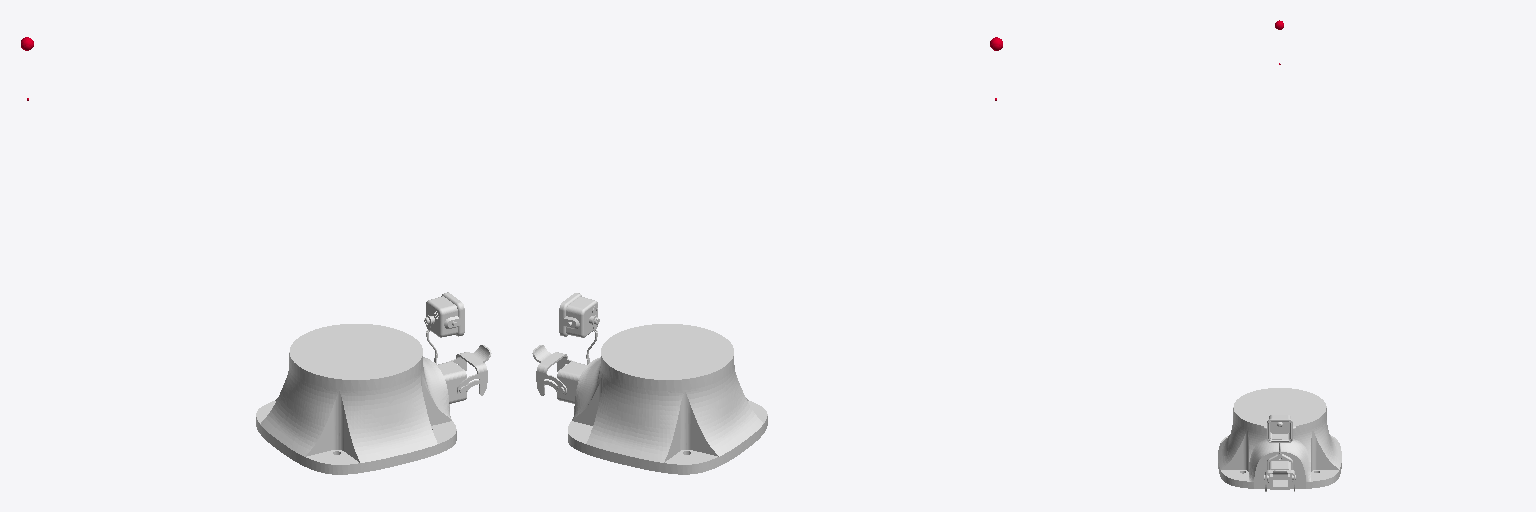
URDF robot description (mg400):
<?xml version="1.0" ?>
<robot name="mg400">
	<link name="world">
		<inertial>
			<origin rpy="0.00000 -0.00000 0.00000" xyz="0.00000 0.00000 0.00000"/>
			<mass value="0.00000"/>
			<inertia ixx="0.00000" ixy="0" ixz="0" iyy="0.00000" iyz="0" izz="0.00000"/>
		</inertial>
	</link>
	<link name="base_link">
		<inertial>
			<origin rpy="0.00000 -0.00000 0.00000" xyz="0.00060 -0.00000 0.05609"/>
			<mass value="3.62165"/>
			<inertia ixx="0.01587" ixy="0" ixz="0" iyy="0.01587" iyz="0" izz="0.02319"/>
		</inertial>
		<visual>
			<origin rpy="0.00000 -0.00000 0.00000" xyz="0.00000 0.00000 0.00000"/>
			<geometry>
				<mesh filename="../robot_arm_assets/mg400/meshes/base_link.STL" scale="1.00000 1.00000 1.00000"/>
			</geometry>
			<material name="mat_0">
				<color rgba="0.90000 0.90000 0.90000 1.00000" />
			</material>
		</visual>
		<collision>
			<origin rpy="0.00000 -0.00000 0.00000" xyz="0.00000 0.00000 0.00000"/>
			<geometry>
				<mesh filename="../robot_arm_assets/mg400/meshes/base_link.STL" scale="1.00000 1.00000 1.00000"/>
			</geometry>
		</collision>
	</link>
	<link name="link1">
		<inertial>
			<origin rpy="0.00000 -0.00000 0.00000" xyz="-0.00462 -0.00007 0.07099"/>
			<mass value="1.77056"/>
			<inertia ixx="0.00748" ixy="0" ixz="0" iyy="0.00775" iyz="0" izz="0.00787"/>
		</inertial>
		<visual>
			<origin rpy="0.00000 -0.00000 0.00000" xyz="0.00000 0.00000 0.00000"/>
			<geometry>
				<mesh filename="../robot_arm_assets/mg400/meshes/link1.STL" scale="1.00000 1.00000 1.00000"/>
			</geometry>
			<material name="mat_1">
				<color rgba="0.30000 0.30000 0.30000 1.00000" />
			</material>
		</visual>
		<collision>
			<origin rpy="0.00000 -0.00000 0.00000" xyz="0.00000 0.00000 0.00000"/>
			<geometry>
				<mesh filename="../robot_arm_assets/mg400/meshes/link1.STL" scale="1.00000 1.00000 1.00000"/>
			</geometry>
		</collision>
	</link>
	<link name="link2_1">
		<inertial>
			<origin rpy="0.00000 -0.00000 0.00000" xyz="-0.00322 0.03529 0.05961"/>
			<mass value="0.08661"/>
			<inertia ixx="0.00038" ixy="0" ixz="0" iyy="0.00035" iyz="0" izz="0.00006"/>
		</inertial>
		<visual>
			<origin rpy="0.00000 -0.00000 0.00000" xyz="0.00000 0.00000 0.00000"/>
			<geometry>
				<mesh filename="../robot_arm_assets/mg400/meshes/link2_1.STL" scale="1.00000 1.00000 1.00000"/>
			</geometry>
			<material name="mat_2">
				<color rgba="0.30000 0.30000 0.30000 1.00000" />
			</material>
		</visual>
		<collision>
			<origin rpy="0.00000 -0.00000 0.00000" xyz="0.00000 0.00000 0.00000"/>
			<geometry>
				<mesh filename="../robot_arm_assets/mg400/meshes/link2_1.STL" scale="1.00000 1.00000 1.00000"/>
			</geometry>
		</collision>
	</link>
	<link name="link3_1">
		<inertial>
			<origin rpy="0.00000 -0.00000 0.00000" xyz="0.08217 0.00011 -0.00334"/>
			<mass value="0.03752"/>
			<inertia ixx="0.00001" ixy="0" ixz="0" iyy="0.00018" iyz="0" izz="0.00018"/>
		</inertial>
		<visual>
			<origin rpy="0.00000 -0.00000 0.00000" xyz="0.00000 0.00000 0.00000"/>
			<geometry>
				<mesh filename="../robot_arm_assets/mg400/meshes/link3_1.STL" scale="1.00000 1.00000 1.00000"/>
			</geometry>
			<material name="mat_3">
				<color rgba="0.30000 0.30000 0.30000 1.00000" />
			</material>
		</visual>
		<collision>
			<origin rpy="0.00000 -0.00000 0.00000" xyz="0.00000 0.00000 0.00000"/>
			<geometry>
				<mesh filename="../robot_arm_assets/mg400/meshes/link3_1.STL" scale="1.00000 1.00000 1.00000"/>
			</geometry>
		</collision>
	</link>
	<link name="link4_1">
		<inertial>
			<origin rpy="0.00000 -0.00000 0.00000" xyz="0.03879 0.01708 -0.00246"/>
			<mass value="0.06290"/>
			<inertia ixx="0.00006" ixy="0" ixz="0" iyy="0.00010" iyz="0" izz="0.00007"/>
		</inertial>
		<visual>
			<origin rpy="0.00000 -0.00000 0.00000" xyz="0.00000 0.00000 0.00000"/>
			<geometry>
				<mesh filename="../robot_arm_assets/mg400/meshes/link4_1.STL" scale="1.00000 1.00000 1.00000"/>
			</geometry>
			<material name="mat_4">
				<color rgba="0.90000 0.90000 0.90000 1.00000" />
			</material>
		</visual>
		<collision>
			<origin rpy="0.00000 -0.00000 0.00000" xyz="0.00000 0.00000 0.00000"/>
			<geometry>
				<mesh filename="../robot_arm_assets/mg400/meshes/link4_1.STL" scale="1.00000 1.00000 1.00000"/>
			</geometry>
		</collision>
	</link>
	<link name="link5">
		<inertial>
			<origin rpy="0.00000 -0.00000 0.00000" xyz="0.00000 0.00000 -0.03497"/>
			<mass value="0.09653"/>
			<inertia ixx="0.00008" ixy="0" ixz="0" iyy="0.00008" iyz="0" izz="0.00003"/>
		</inertial>
		<visual>
			<origin rpy="0.00000 -0.00000 0.00000" xyz="0.00000 0.00000 0.00000"/>
			<geometry>
				<mesh filename="../robot_arm_assets/mg400/meshes/link5.STL" scale="1.00000 1.00000 1.00000"/>
			</geometry>
			<material name="mat_5">
				<color rgba="0.90000 0.90000 0.90000 1.00000" />
			</material>
		</visual>
		<collision>
			<origin rpy="0.00000 -0.00000 0.00000" xyz="0.00000 0.00000 0.00000"/>
			<geometry>
				<mesh filename="../robot_arm_assets/mg400/meshes/link5.STL" scale="1.00000 1.00000 1.00000"/>
			</geometry>
		</collision>
	</link>
	<link name="ee_link">
		<inertial>
			<origin rpy="-3.14000 -0.00000 1.57000" xyz="0.00000 0.00000 0.00000"/>
			<mass value="0.00000"/>
			<inertia ixx="0.00000" ixy="0" ixz="0" iyy="0.00000" iyz="0" izz="0.00000"/>
		</inertial>
		<visual>
			<origin rpy="0.00000 -0.00000 0.00000" xyz="0.00000 0.00000 0.00000"/>
			<geometry>
				<sphere radius="0.00500"/>
			</geometry>
			<material name="mat_6">
				<color rgba="0.90000 0.00000 0.20000 1.00000" />
			</material>
		</visual>
		<collision>
			<origin rpy="0.00000 -0.00000 0.00000" xyz="0.00000 0.00000 0.00000"/>
			<geometry>
				<sphere radius="0.00100"/>
			</geometry>
		</collision>
	</link>
	<link name="link2_2">
		<inertial>
			<origin rpy="0.00000 -0.00000 0.00000" xyz="-0.02011 0.03050 0.07363"/>
			<mass value="0.06625"/>
			<inertia ixx="0.00025" ixy="0" ixz="0" iyy="0.00024" iyz="0" izz="0.00004"/>
		</inertial>
		<visual>
			<origin rpy="0.00000 -0.00000 0.00000" xyz="0.00000 0.00000 0.00000"/>
			<geometry>
				<mesh filename="../robot_arm_assets/mg400/meshes/link2_2.STL" scale="1.00000 1.00000 1.00000"/>
			</geometry>
			<material name="mat_7">
				<color rgba="0.90000 0.90000 0.90000 1.00000" />
			</material>
		</visual>
		<collision>
			<origin rpy="0.00000 -0.00000 0.00000" xyz="0.00000 0.00000 0.00000"/>
			<geometry>
				<mesh filename="../robot_arm_assets/mg400/meshes/link2_2.STL" scale="1.00000 1.00000 1.00000"/>
			</geometry>
		</collision>
	</link>
	<link name="link3_2">
		<inertial>
			<origin rpy="0.00000 -0.00000 0.00000" xyz="0.03386 0.02402 0.00452"/>
			<mass value="0.03667"/>
			<inertia ixx="0.00002" ixy="0" ixz="0" iyy="0.00004" iyz="0" izz="0.00004"/>
		</inertial>
		<visual>
			<origin rpy="0.00000 -0.00000 0.00000" xyz="0.00000 0.00000 0.00000"/>
			<geometry>
				<mesh filename="../robot_arm_assets/mg400/meshes/link3_2.STL" scale="1.00000 1.00000 1.00000"/>
			</geometry>
			<material name="mat_8">
				<color rgba="0.30000 0.30000 0.30000 1.00000" />
			</material>
		</visual>
		<collision>
			<origin rpy="0.00000 -0.00000 0.00000" xyz="0.00000 0.00000 0.00000"/>
			<geometry>
				<mesh filename="../robot_arm_assets/mg400/meshes/link3_2.STL" scale="1.00000 1.00000 1.00000"/>
			</geometry>
		</collision>
	</link>
	<link name="link4_2">
		<inertial>
			<origin rpy="0.00000 -0.00000 0.00000" xyz="0.08764 0.02350 0.00831"/>
			<mass value="0.04536"/>
			<inertia ixx="0.00002" ixy="0" ixz="0" iyy="0.00016" iyz="0" izz="0.00016"/>
		</inertial>
		<visual>
			<origin rpy="0.00000 -0.00000 0.00000" xyz="0.00000 0.00000 0.00000"/>
			<geometry>
				<mesh filename="../robot_arm_assets/mg400/meshes/link4_2.STL" scale="1.00000 1.00000 1.00000"/>
			</geometry>
			<material name="mat_9">
				<color rgba="0.90000 0.90000 0.90000 1.00000" />
			</material>
		</visual>
		<collision>
			<origin rpy="0.00000 -0.00000 0.00000" xyz="0.00000 0.00000 0.00000"/>
			<geometry>
				<mesh filename="../robot_arm_assets/mg400/meshes/link4_2.STL" scale="1.00000 1.00000 1.00000"/>
			</geometry>
		</collision>
	</link>
	<link name="digitac_body_link">
		<inertial>
			<origin rpy="0.00000 -0.00000 0.00000" xyz="0.00445 -0.01376 -0.00000"/>
			<mass value="0.00792"/>
			<inertia ixx="0.00000" ixy="0" ixz="0" iyy="0.00000" iyz="0" izz="0.00000"/>
		</inertial>
		<visual>
			<origin rpy="0.00000 -0.00000 0.00000" xyz="0.00000 0.00000 0.03500"/>
			<geometry>
				<mesh filename="../sensor_assets/standard_digitac/body/digitac_body.stl" scale="1.00000 1.00000 1.00000"/>
			</geometry>
			<material name="mat_10">
				<color rgba="0.80000 0.80000 0.80000 1.00000" />
			</material>
		</visual>
		<collision>
			<origin rpy="0.00000 -0.00000 0.00000" xyz="0.00000 0.00000 0.03500"/>
			<geometry>
				<mesh filename="../sensor_assets/standard_digitac/body/digitac_body.stl" scale="1.00000 1.00000 1.00000"/>
			</geometry>
		</collision>
	</link>
	<link name="digitac_tip_link">
		<inertial>
			<origin rpy="0.00000 -0.00000 0.00000" xyz="0.00002 -0.00418 -0.00513"/>
			<mass value="0.00021"/>
			<inertia ixx="0.00000" ixy="0" ixz="0" iyy="0.00000" iyz="0" izz="0.00000"/>
		</inertial>
		<visual>
			<origin rpy="0.00000 -0.00000 0.00000" xyz="0.00000 0.00000 -0.03500"/>
			<geometry>
				<mesh filename="../sensor_assets/standard_digitac/tip/digitac_skin.stl" scale="1.00000 1.00000 1.00000"/>
			</geometry>
			<material name="mat_11">
				<color rgba="0.00000 0.00000 0.00000 1.00000" />
			</material>
		</visual>
		<collision>
			<origin rpy="0.00000 -0.00000 0.00000" xyz="0.00000 0.00000 -0.03500"/>
			<geometry>
				<mesh filename="../sensor_assets/standard_digitac/tip/digitac_skin.stl" scale="1.00000 1.00000 1.00000"/>
			</geometry>
		</collision>
	</link>
	<link name="tcp_link">
		<inertial>
			<origin rpy="0.00000 -0.00000 1.57000" xyz="0.00000 0.00000 0.00000"/>
			<mass value="0.00000"/>
			<inertia ixx="0.00000" ixy="0" ixz="0" iyy="0.00000" iyz="0" izz="0.00000"/>
		</inertial>
		<visual>
			<origin rpy="0.00000 -0.00000 0.00000" xyz="0.00000 0.00000 0.00000"/>
			<geometry>
				<sphere radius="0.00100"/>
			</geometry>
			<material name="mat_12">
				<color rgba="0.90000 0.00000 0.20000 0.50000" />
			</material>
		</visual>
	</link>
	<joint name="world_joint" type="fixed">
		<parent link="world"/>
		<child link="base_link"/>
		<dynamics damping="1.0" friction="0.0001"/>
		<origin rpy="0.00000 -0.00000 -3.14000" xyz="0.00000 0.00000 0.00000"/>
		<axis xyz="0.00000 0.00000 0.00000"/>
	</joint>
	<joint name="j1" type="revolute">
		<parent link="base_link"/>
		<child link="link1"/>
		<limit effort="0.00000" lower="-3.14000" upper="3.14000" velocity="0.00000"/>
		<dynamics damping="1.0" friction="0.0001"/>
		<origin rpy="0.00000 -0.00000 0.00000" xyz="-0.00500 0.00000 0.10900"/>
		<axis xyz="0.00000 0.00000 1.00000"/>
	</joint>
	<joint name="j2_1" type="revolute">
		<parent link="link1"/>
		<child link="link2_1"/>
		<limit effort="0.00000" lower="-3.14000" upper="3.14000" velocity="0.00000"/>
		<dynamics damping="1.0" friction="0.0001"/>
		<origin rpy="0.00000 -0.00000 0.00000" xyz="0.04350 -0.03577 0.11900"/>
		<axis xyz="0.00000 1.00000 0.00000"/>
	</joint>
	<joint name="j3_1" type="revolute">
		<parent link="link2_1"/>
		<child link="link3_1"/>
		<limit effort="0.00000" lower="-3.14000" upper="3.14000" velocity="0.00000"/>
		<dynamics damping="1.0" friction="0.0001"/>
		<origin rpy="0.00000 -0.00000 0.00000" xyz="-0.00105 0.03577 0.17500"/>
		<axis xyz="0.00000 1.00000 0.00000"/>
	</joint>
	<joint name="j4_1" type="revolute">
		<parent link="link3_1"/>
		<child link="link4_1"/>
		<limit effort="0.00000" lower="-3.14000" upper="3.14000" velocity="0.00000"/>
		<dynamics damping="1.0" friction="0.0001"/>
		<origin rpy="0.00000 -0.00000 0.00000" xyz="0.17497 -0.01700 0.00325"/>
		<axis xyz="0.00000 1.00000 0.00000"/>
	</joint>
	<joint name="j5" type="revolute">
		<parent link="link4_1"/>
		<child link="link5"/>
		<limit effort="0.00000" lower="-3.14000" upper="3.14000" velocity="0.00000"/>
		<dynamics damping="1.0" friction="0.0001"/>
		<origin rpy="0.00000 -0.00000 0.00000" xyz="0.06600 0.01700 0.03100"/>
		<axis xyz="-0.00001 0.00000 1.00000"/>
	</joint>
	<joint name="ee_joint" type="fixed">
		<parent link="link5"/>
		<child link="ee_link"/>
		<dynamics damping="1.0" friction="0.0001"/>
		<origin rpy="0.00000 -0.00000 0.00000" xyz="0.00000 0.00000 -0.06500"/>
		<axis xyz="0.00000 0.00000 0.00000"/>
	</joint>
	<joint name="j2_2" type="revolute">
		<parent link="link1"/>
		<child link="link2_2"/>
		<limit effort="0.00000" lower="-3.14000" upper="3.14000" velocity="0.00000"/>
		<dynamics damping="1.0" friction="0.0001"/>
		<origin rpy="0.00000 -0.00000 0.00000" xyz="0.00453 -0.03050 0.14150"/>
		<axis xyz="0.00000 1.00000 0.00000"/>
	</joint>
	<joint name="j3_2" type="revolute">
		<parent link="link2_2"/>
		<child link="link3_2"/>
		<limit effort="0.00000" lower="-3.14000" upper="3.14000" velocity="0.00000"/>
		<dynamics damping="1.0" friction="0.0001"/>
		<origin rpy="0.00000 -0.00000 0.00000" xyz="-0.00105 0.00650 0.17500"/>
		<axis xyz="0.00000 1.00000 0.00000"/>
	</joint>
	<joint name="j4_2" type="revolute">
		<parent link="link3_2"/>
		<child link="link4_2"/>
		<limit effort="0.00000" lower="-3.14000" upper="3.14000" velocity="0.00000"/>
		<dynamics damping="1.0" friction="0.0001"/>
		<origin rpy="0.00000 -0.00000 0.00000" xyz="0.06790 0.00050 0.01197"/>
		<axis xyz="0.00000 1.00000 0.00000"/>
	</joint>
	<joint name="joint_dummy1" type="fixed">
		<parent link="ee_link"/>
		<child link="digitac_body_link"/>
		<dynamics damping="1.0" friction="0.0001"/>
		<origin rpy="-3.14159 0.00000 3.14159" xyz="0.00000 0.00000 0.00000"/>
		<axis xyz="0.00000 0.00000 1.00000"/>
	</joint>
	<joint name="tactip_tip_to_body" type="fixed">
		<parent link="digitac_body_link"/>
		<child link="digitac_tip_link"/>
		<dynamics damping="1.0" friction="0.0001"/>
		<origin rpy="3.14159 -0.00000 -1.57080" xyz="0.00000 0.00000 0.00000"/>
		<axis xyz="0.00000 0.00000 0.00000"/>
	</joint>
	<joint name="tcp_joint" type="fixed">
		<parent link="digitac_body_link"/>
		<child link="tcp_link"/>
		<dynamics damping="1.0" friction="0.0001"/>
		<origin rpy="0.00000 -0.00000 0.00000" xyz="0.00070 0.00000 0.04500"/>
		<axis xyz="0.00000 0.00000 0.00000"/>
	</joint>
</robot>

--- Facts derived from the render (not from the file) ---
The picture shows the robot from 3 angles, left to right: view 1: azimuth 30°, elevation 25°; view 2: azimuth 150°, elevation 25°; view 3: azimuth 270°, elevation 25°; orthographic projection.
Model mg400 with 14 links and 13 joints (8 revolute, 5 fixed), rooted at world, posed all joints at 0.
Visible links, largest first — view 1: base_link; view 2: base_link; view 3: base_link.
Link boxes in pixels (bbox=[...]): base_link: bbox=[256, 292, 491, 474]; base_link: bbox=[532, 293, 767, 474]; base_link: bbox=[1218, 388, 1341, 491].
Size in the robot's own frame: 0.3937 by 0.13 by 0.3837 metres.
Meshes: 11 distinct files referenced, 1 mesh visuals loaded (1 binary STL); not drawn: 10 (reference not matched to a file when rendering).